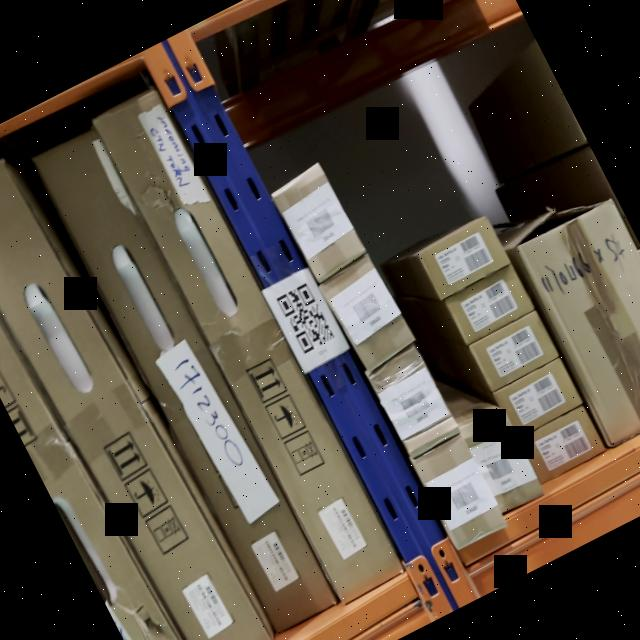box: (92, 84, 406, 604), (28, 124, 340, 638), (0, 158, 275, 640), (512, 196, 640, 447), (318, 254, 418, 371), (271, 165, 368, 282), (365, 346, 464, 459), (411, 432, 507, 546), (417, 214, 512, 300), (443, 263, 537, 346), (518, 398, 610, 482), (470, 312, 560, 392), (494, 358, 582, 436)
